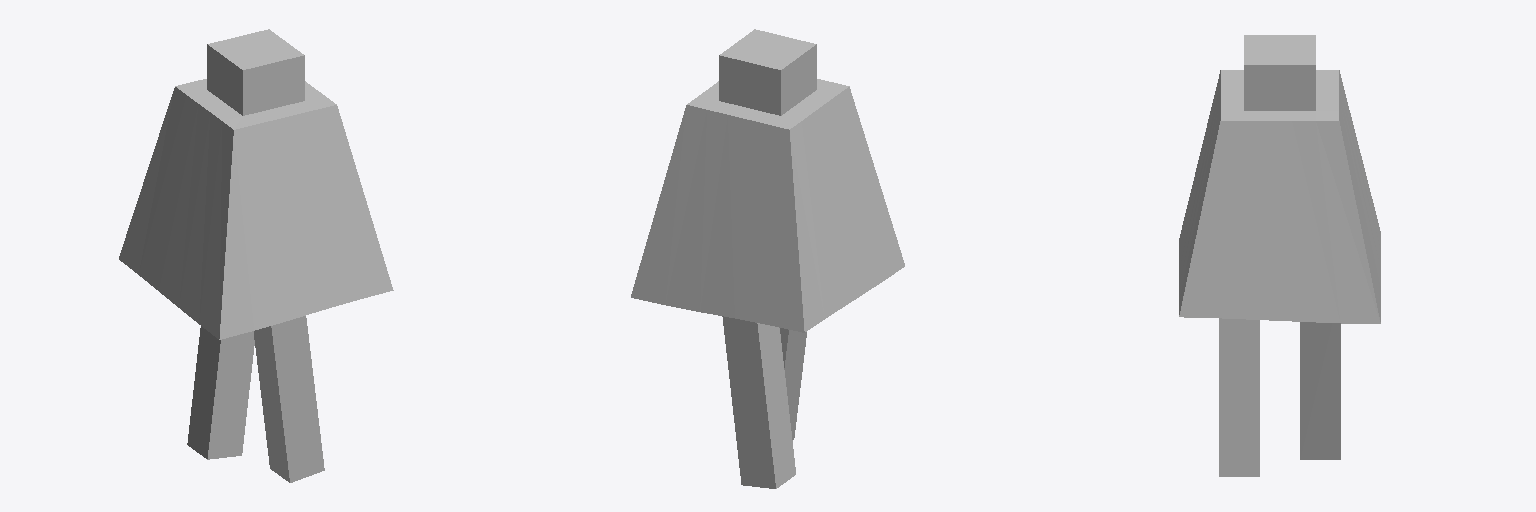
File: essai_000005.obj
The picture shows the model from 3 angles: view 1: azimuth 30°, elevation 25°; view 2: azimuth 150°, elevation 25°; view 3: azimuth 270°, elevation 25°; orthographic projection.
Visible parts, largest first — view 1: Cube; view 2: Cube; view 3: Cube.
Part boxes in pixels (left/top/right/bottom): Cube: left=119, top=29, right=393, bottom=482; Cube: left=631, top=29, right=904, bottom=488; Cube: left=1179, top=35, right=1380, bottom=476.
Size of the model in its own units: 2 by 4.51 by 2.